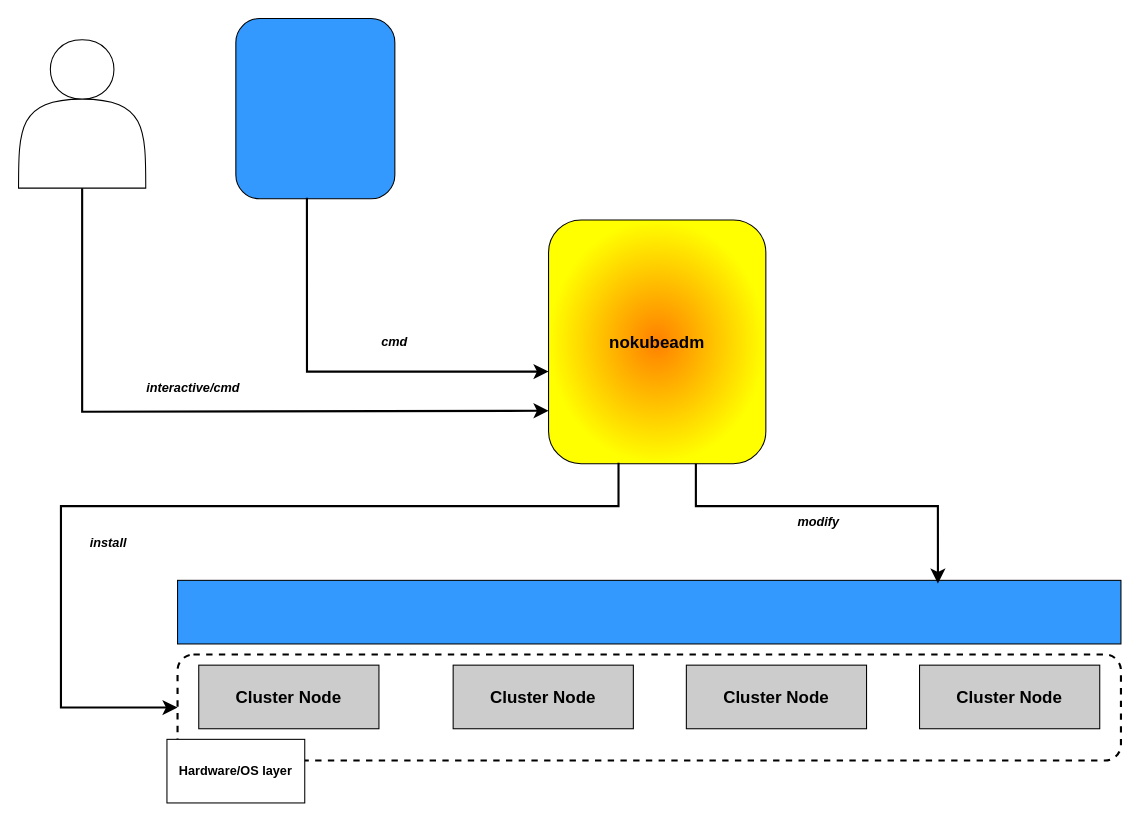
Some shapes in this 1141 by 821 pixel diagram are drawn without their labels. Each missing label, with the box of its shape:
Kubernetes Cluster: (176, 579, 1121, 644)
orch.io: (235, 17, 395, 199)
User: (17, 39, 146, 188)
